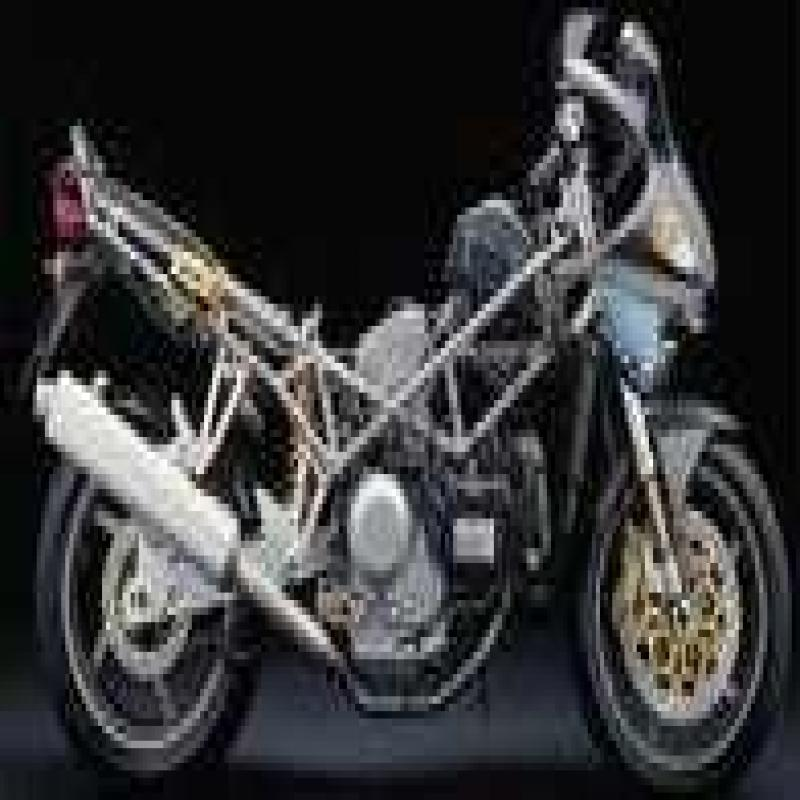bike: (19, 15, 800, 786)
